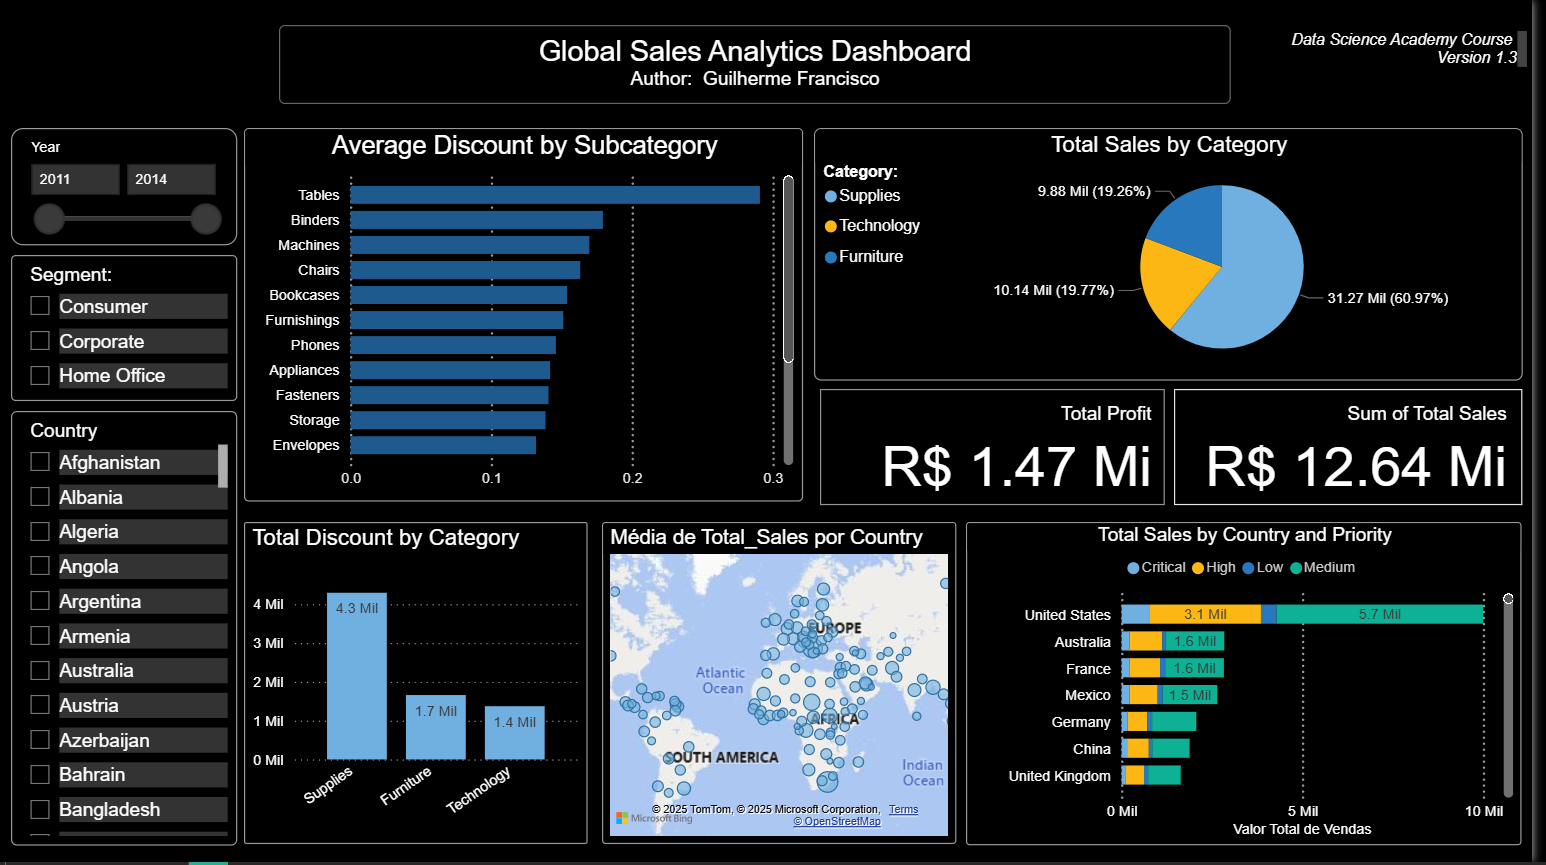

This screenshot's page, from the dashboard's own definition file:
{"tool":"powerbi","page":{"name":"Sales Analytics Dashboard","canvas":[1280,720],"ordinal":0},"visuals":[{"type":"cardVisual","fields":{"Data":["Sum(Sales_Dataset.Total_Sales)"]},"box":[975.9,319.6,301.6,107.7],"z":0},{"type":"cardVisual","fields":{"Data":["Sum(Sales_Dataset.Profit)"]},"box":[679.6,319.6,299,107.7],"z":1000},{"type":"columnChart","title":"Total Discount by Category","fields":{"Y":["Sum(dataset_updated.Desconto)"],"Category":["Sales_Dataset.Category"]},"box":[203.8,436.3,287.3,269.3],"z":2000},{"type":"barChart","title":"Total Sales by Country and Priority","fields":{"Category":["dataset_updated.Pais"],"Y":["CountNonNull(dataset_updated.ID_Pedido)"],"Series":["dataset_updated.Prioridade"]},"box":[807.1,436.3,464.1,270.2],"z":3000},{"type":"clusteredBarChart","title":"Average Discount by Subcategory","fields":{"Category":["Sales_Dataset.SubCategory"],"Y":["Avg(Sales_Dataset.Discount)"]},"box":[203.8,106.8,466.8,311.5],"z":4000},{"type":"map","fields":{"Category":["dataset_updated.Pais"],"Size":["Avg(dataset_updated.Total_Vendas)"]},"box":[502.7,436.3,296.3,269.3],"z":5000},{"type":"textbox","box":[233.4,20.6,795.4,66.4],"z":6000},{"type":"textbox","box":[1047.7,20.6,232.5,46.7],"z":7000},{"type":"pieChart","title":"Total Sales by Category\t","fields":{"Y":["CountNonNull(dataset_updated.ID_Cliente)"],"Category":["dataset_updated.Categoria"]},"box":[679.6,106.8,591.6,211],"z":8000},{"type":"slicer","fields":{"Values":["dataset_updated.Segmento"]},"box":[9,212.8,188.5,122.1],"z":9000},{"type":"slicer","fields":{"Values":["Sales_Dataset.Order_Date.Variation.Hierarquia de datas.Ano"]},"box":[9,106.8,188.5,97.9],"z":10000},{"type":"slicer","fields":{"Values":["Sales_Dataset.Country"]},"box":[9,342.9,188.5,362.7],"z":11000}]}

Visuals, with their boxes in screenshot pixels (x1, y1, x2, y2), scaled from the page's 1280x720 canvas onto the 1546x865 screenshot:
cardVisual - Sum(Sales_Dataset.Total_Sales): (x1=1179, y1=384, x2=1543, y2=513)
cardVisual - Sum(Sales_Dataset.Profit): (x1=821, y1=384, x2=1182, y2=513)
"Total Discount by Category" columnChart: (x1=246, y1=524, x2=593, y2=848)
"Total Sales by Country and Priority" barChart: (x1=975, y1=524, x2=1535, y2=849)
"Average Discount by Subcategory" clusteredBarChart: (x1=246, y1=128, x2=810, y2=503)
map - dataset_updated.Pais x Avg(dataset_updated.Total_Vendas): (x1=607, y1=524, x2=965, y2=848)
textbox: (x1=282, y1=25, x2=1243, y2=105)
textbox: (x1=1265, y1=25, x2=1545, y2=81)
"Total Sales by Category	" pieChart: (x1=821, y1=128, x2=1535, y2=382)
slicer - dataset_updated.Segmento: (x1=11, y1=256, x2=239, y2=402)
slicer - Sales_Dataset.Order_Date.Variation.Hierarquia de datas.Ano: (x1=11, y1=128, x2=239, y2=246)
slicer - Sales_Dataset.Country: (x1=11, y1=412, x2=239, y2=848)
